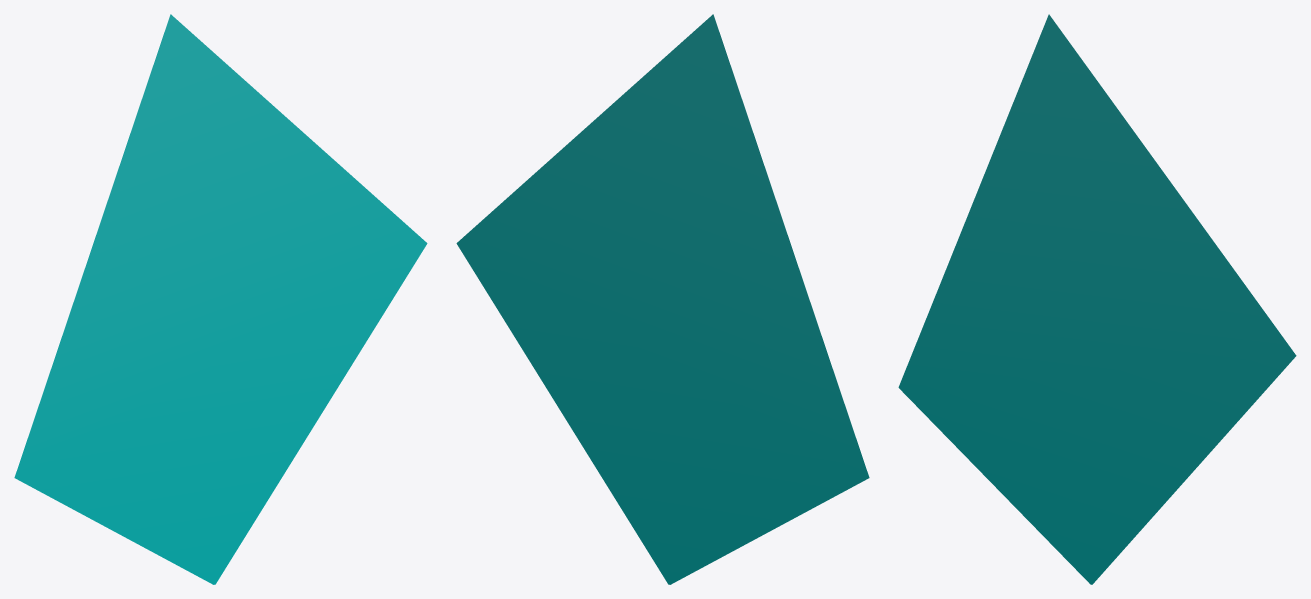
Rendered from Black_Locust_wdvhberja_Mid_wdvhberja_VarE_LOD3.fbx.
The picture shows the model from 3 angles, left to right: view 1: azimuth 30°, elevation 25°; view 2: azimuth 150°, elevation 25°; view 3: azimuth 330°, elevation 25°; orthographic projection. The views are drawn at different scales.
Parts seen in each view (by area): view 1: _jnmx_VarE_LOD4; view 2: _jnmx_VarE_LOD4; view 3: _jnmx_VarE_LOD4.
Boxes of the visible parts, x1,y1,x2,y2 form: _jnmx_VarE_LOD4: (14, 14, 427, 584); _jnmx_VarE_LOD4: (456, 14, 869, 584); _jnmx_VarE_LOD4: (898, 14, 1296, 584).
Size of the model in its own units: 36.92 by 49.66 by 0.
